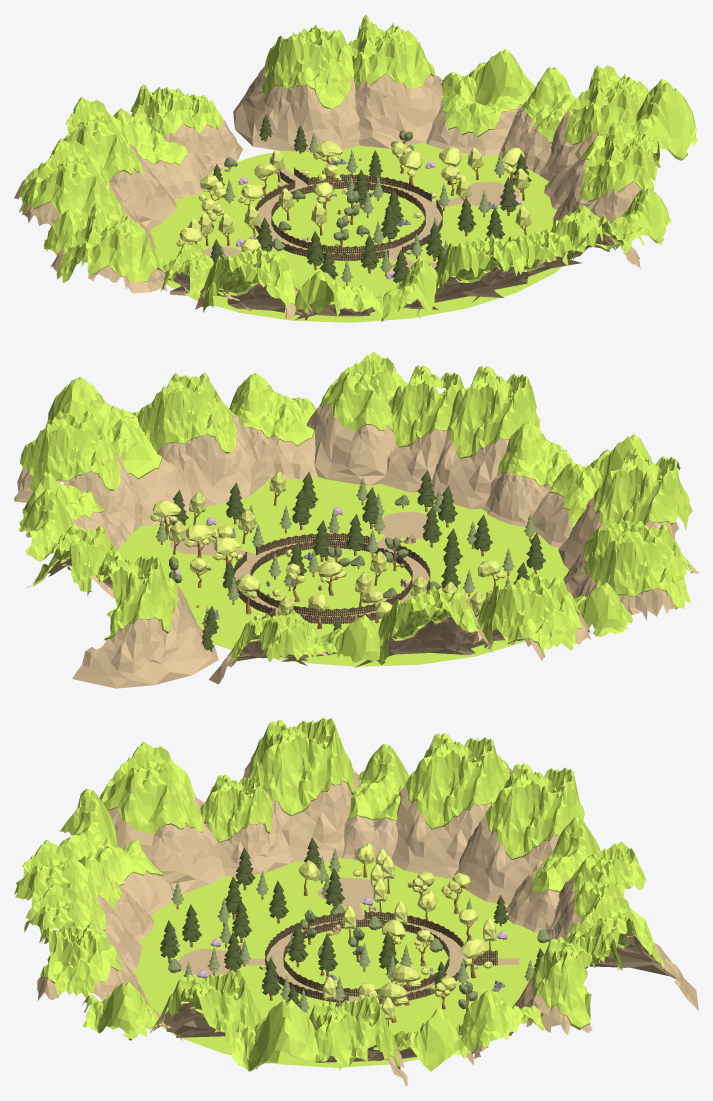
The model's file is forest_v2.fbx.
The picture shows the model from 3 angles, top to bottom: view 1: azimuth 30°, elevation 25°; view 2: azimuth 150°, elevation 25°; view 3: azimuth 270°, elevation 25°; orthographic projection. The views are drawn at different scales.
Visible parts, largest first — view 1: forest2; view 2: forest2; view 3: forest2.
Boxes of the visible parts, left/top/right/bottom form: forest2: left=14, top=14, right=698, bottom=322; forest2: left=14, top=351, right=698, bottom=688; forest2: left=14, top=717, right=698, bottom=1086.
Bounding box in the file's own units: 8685 × 1497 × 7768.
